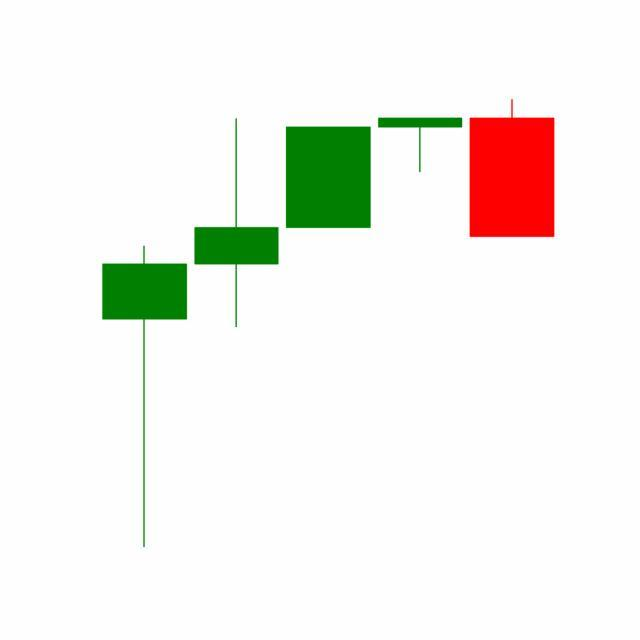Hanging Man: (374, 117, 468, 174)
